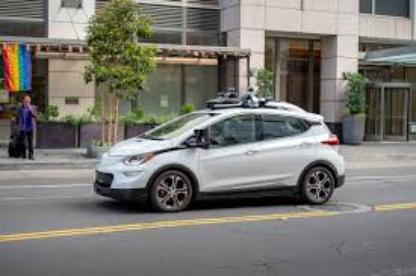car: (93, 99, 351, 216)
